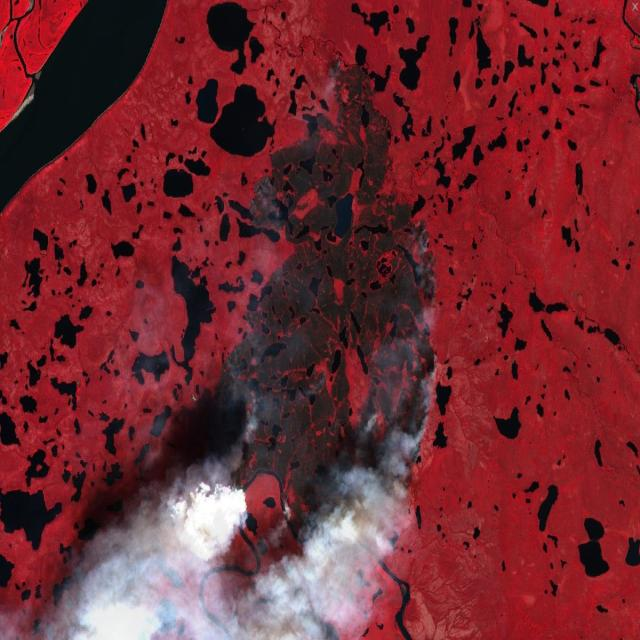fire: (192, 46, 445, 559)
